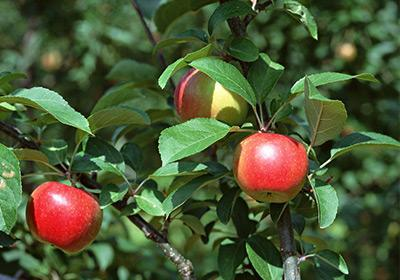apple: (28, 179, 102, 252), (231, 132, 307, 202), (174, 69, 247, 122)
